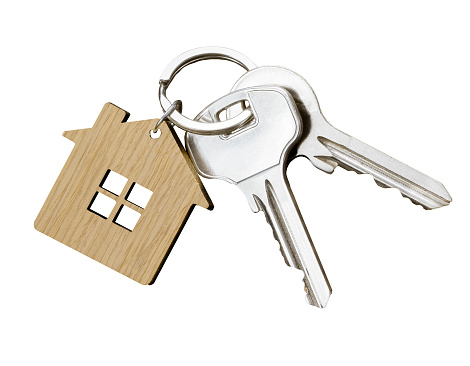key: (179, 53, 457, 312)
